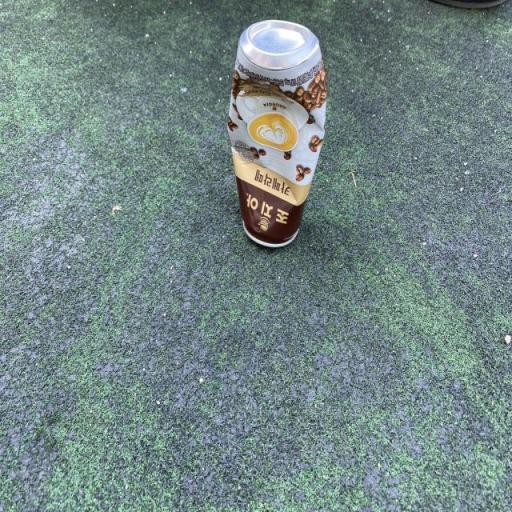metal: (219, 6, 333, 260)
